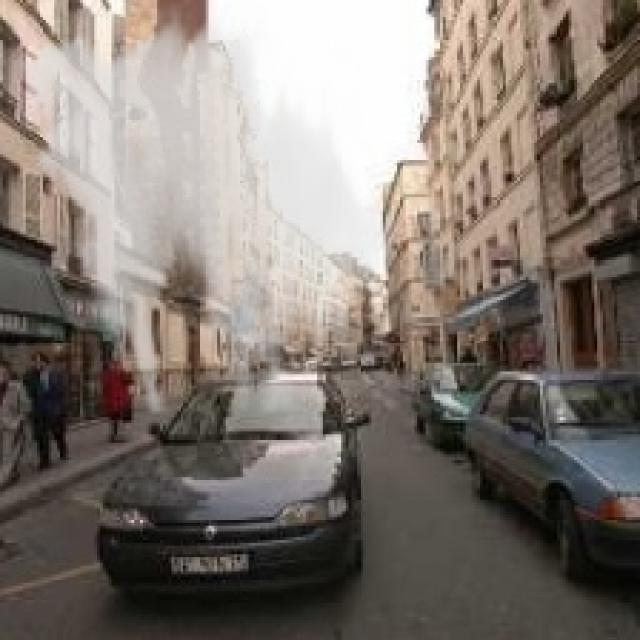Smoke: (8, 2, 400, 414)
